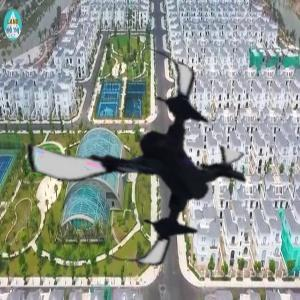drone: (27, 45, 255, 273)
